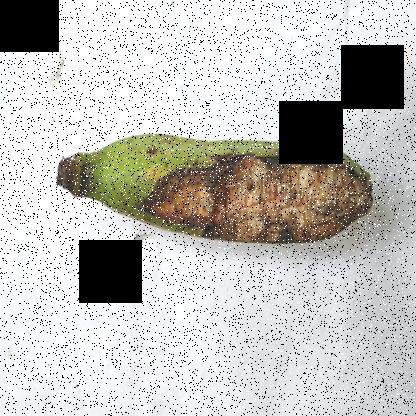rotten: (140, 139, 380, 262)
